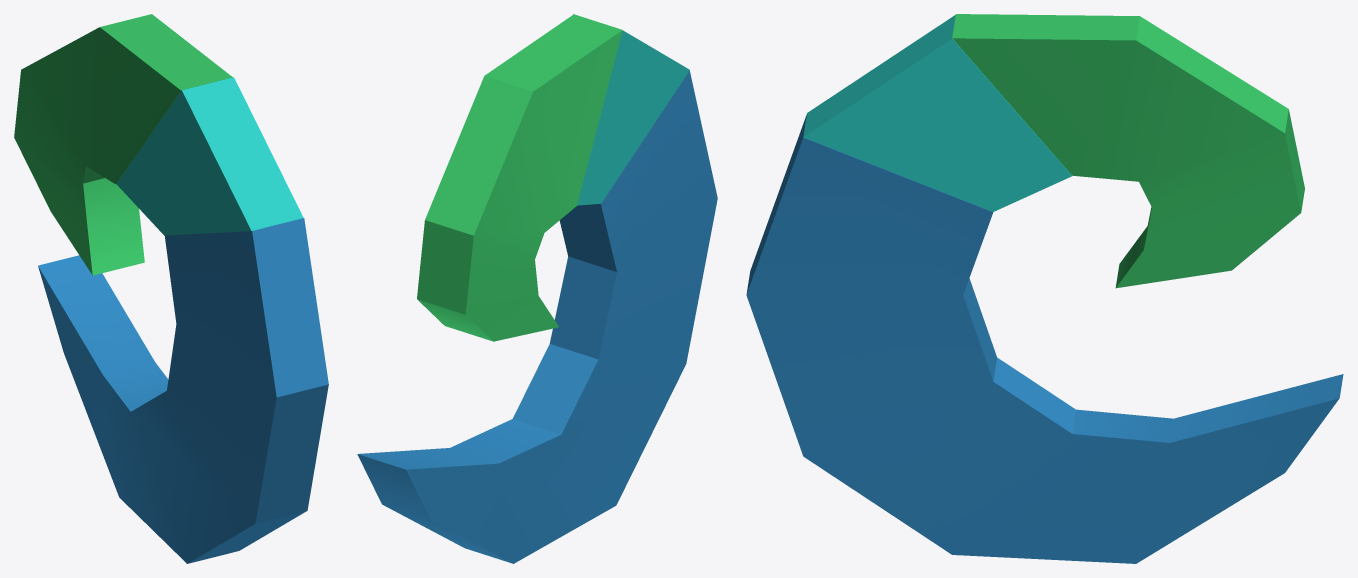
The model's file is edge.glb.
3 renders of one model, left to right at view 1: azimuth 30°, elevation 25°; view 2: azimuth 150°, elevation 25°; view 3: azimuth 270°, elevation 25°, orthographic. The views are drawn at different scales.
Parts seen in each view (by area): view 1: Circle, Circle.001, Circle.002; view 2: Circle, Circle.001, Circle.002; view 3: Circle, Circle.001, Circle.002.
Boxes of the visible parts, x1,y1,x2,y2 form: Circle: (38,218,328,563); Circle.001: (14,14,232,275); Circle.002: (116,77,303,235); Circle: (357,71,717,563); Circle.001: (417,14,622,341); Circle.002: (573,14,689,205); Circle: (746,114,1343,563); Circle.001: (952,14,1304,288); Circle.002: (803,14,1071,211).
Bounding box in the file's own units: 0.1632 × 0.7445 × 0.7816.
